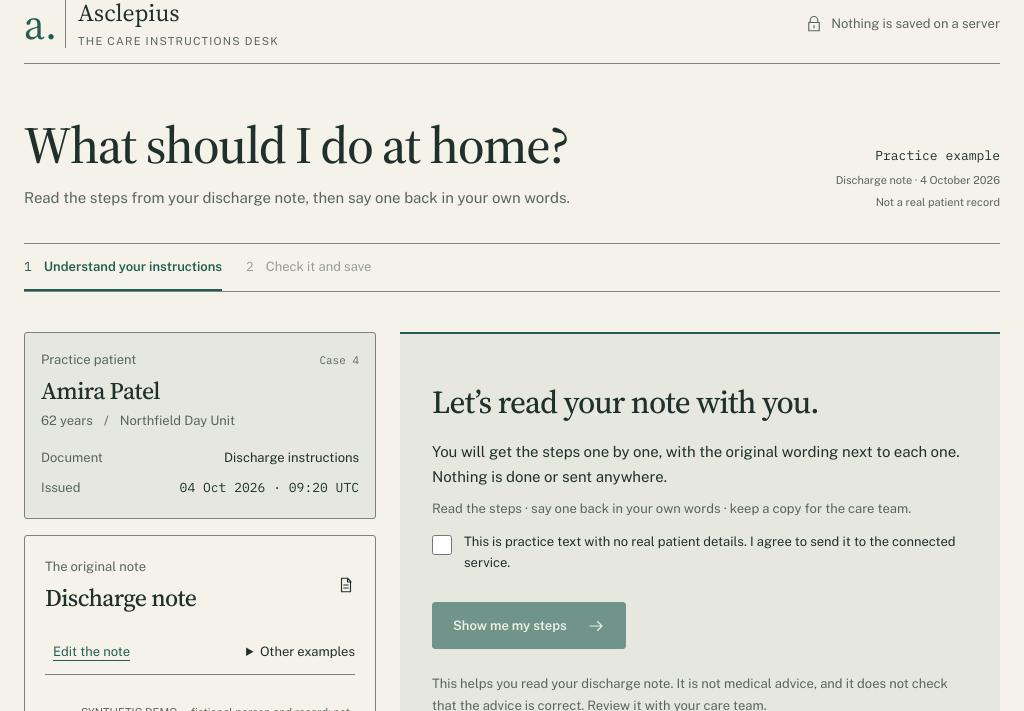
Test: Editorial patient journey › shows error with original unchanged, permits retry and displays comparison failure
Step 1. Click the checkbox labelled "This is practice text" → (442, 545), box [432,535,452,555]
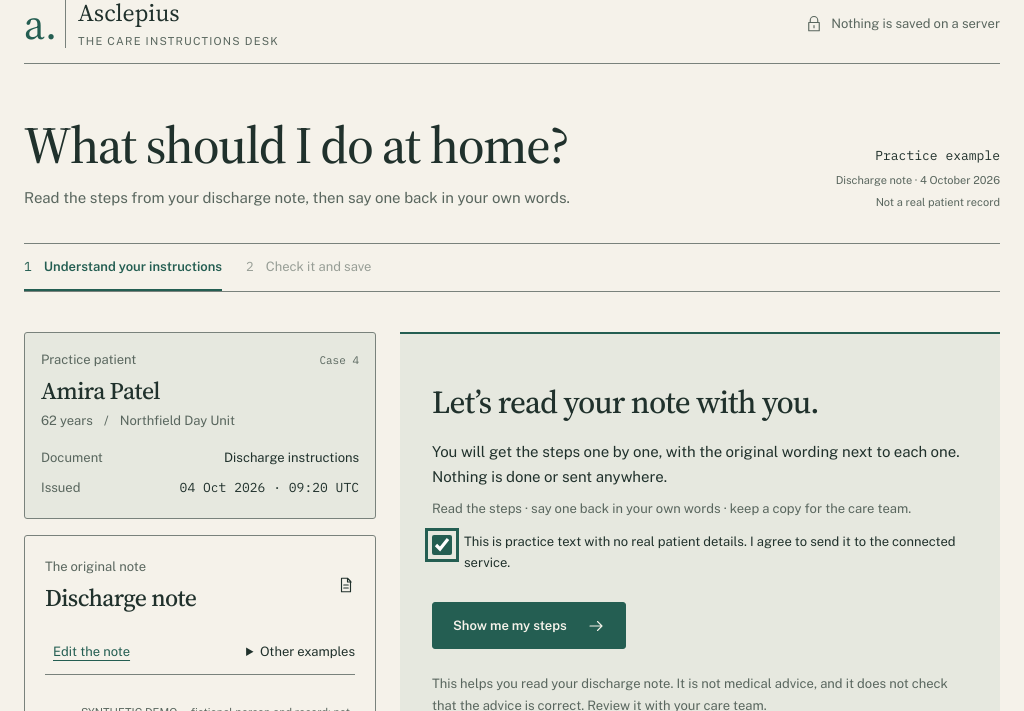
Step 2. Click the button "Show me my steps" → (529, 626), box [432,602,626,649]
(page scrolled)
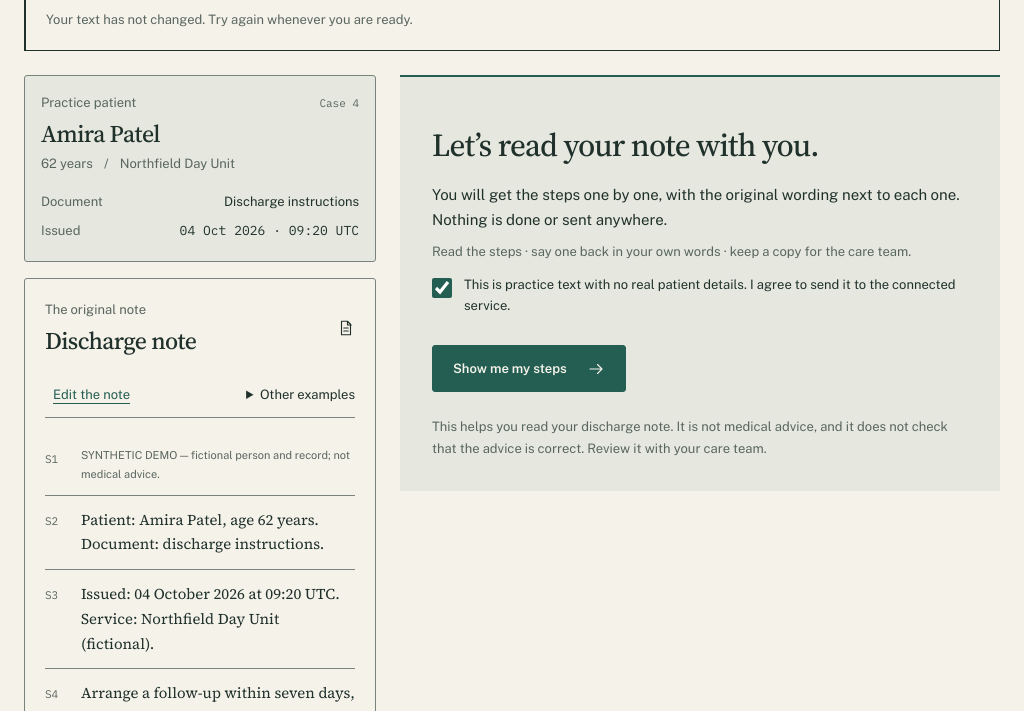
Check: the text "Your text has not changed. Try again whenever you are ready." is shown, box [46,12,413,27]
Step 3. Click the button "Show me my steps" → (529, 368), box [432,345,626,392]
(page scrolled)
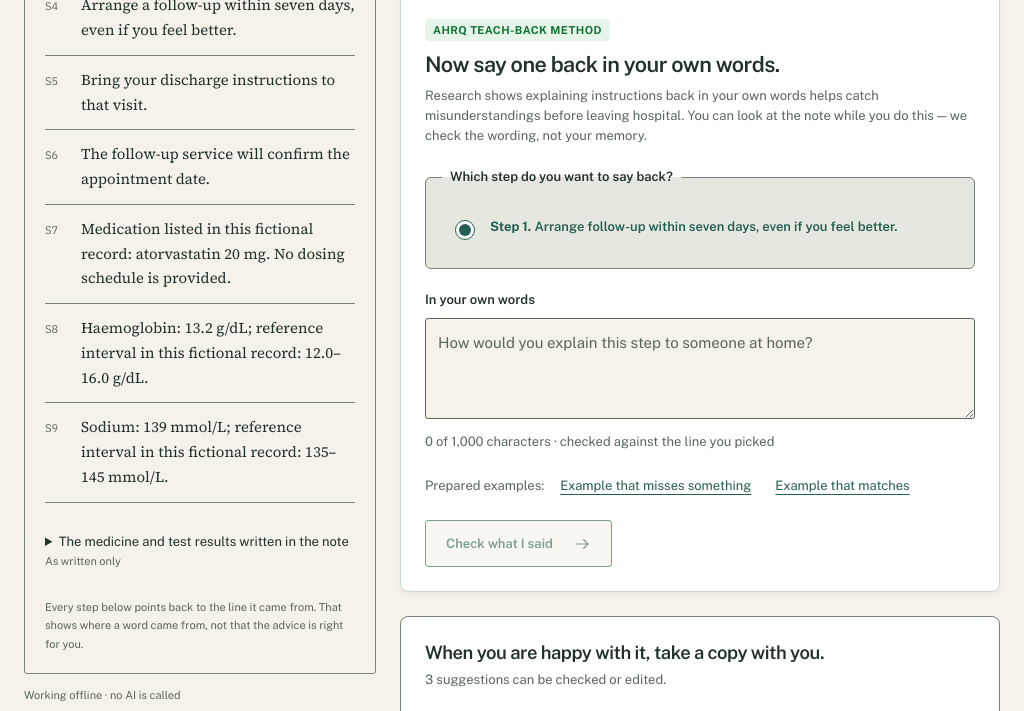
Step 4. Type "my explanation" into the text box labelled "In your own words" → (700, 368), box [425,318,975,419]
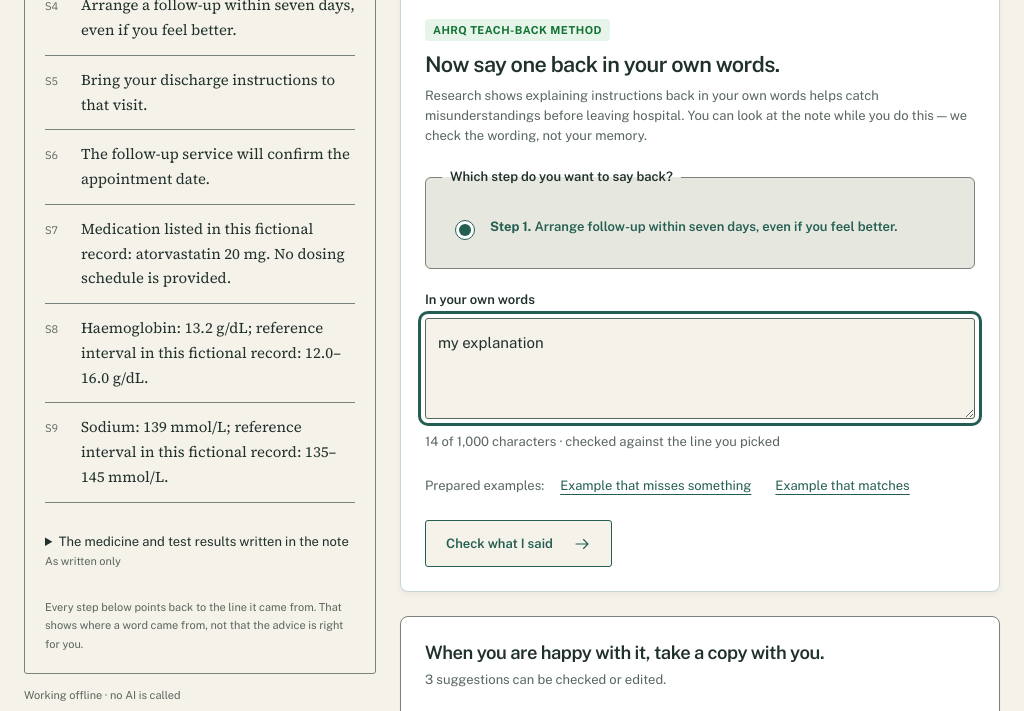
Step 5. Click the button "Check what I said" → (518, 544), box [425,520,612,567]
(page scrolled)
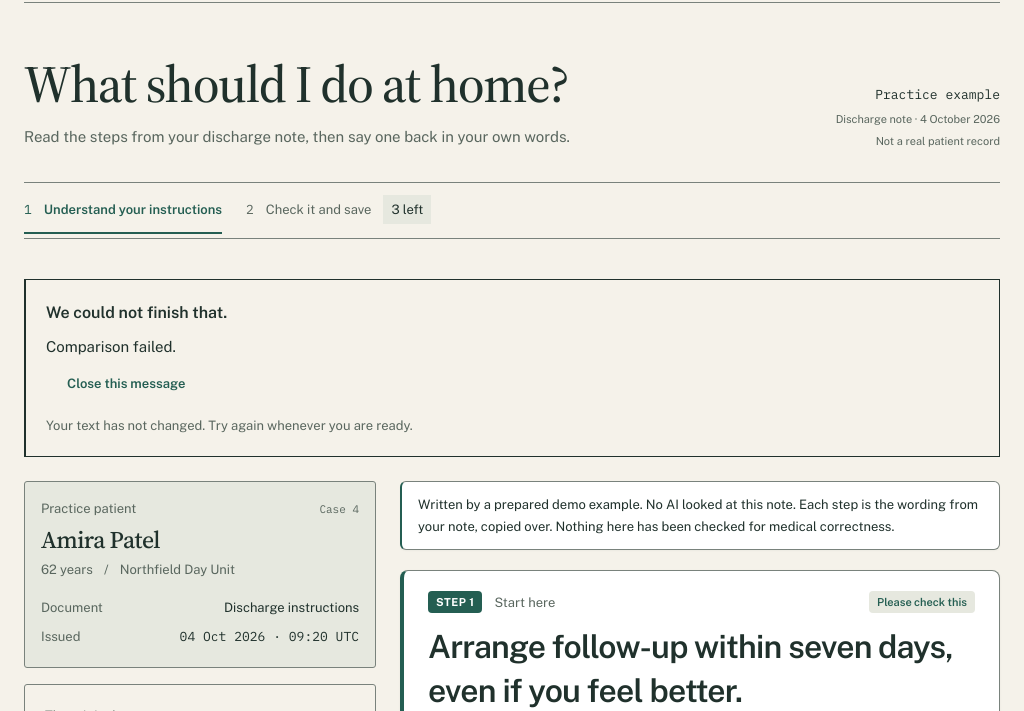
Check: the message shows "Comparison failed.", box [46,338,176,355]
